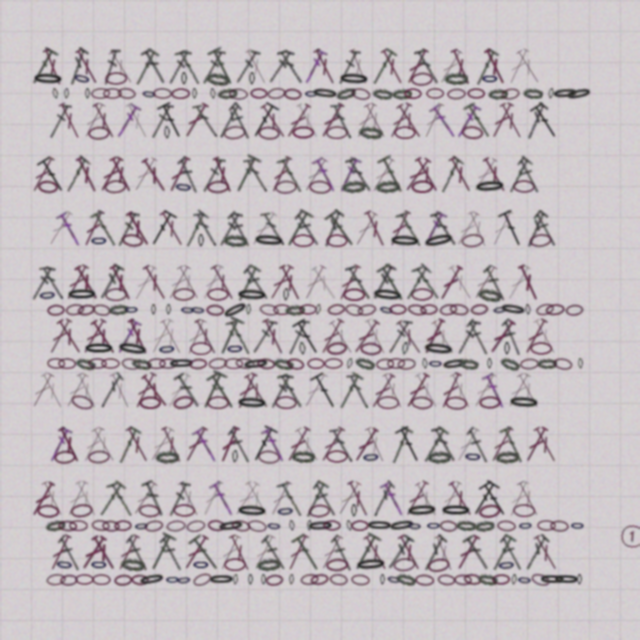chain: (422, 231, 456, 250), (221, 299, 250, 321), (116, 340, 149, 358), (371, 287, 404, 303), (422, 341, 455, 357), (474, 179, 506, 194), (253, 233, 285, 248), (508, 395, 540, 410), (406, 503, 438, 518), (355, 557, 387, 572), (70, 393, 94, 412), (32, 72, 64, 86), (338, 72, 370, 86), (565, 86, 593, 102), (389, 234, 421, 248), (236, 288, 268, 302), (236, 396, 268, 410), (236, 504, 268, 518), (499, 302, 527, 317), (388, 518, 416, 533), (138, 572, 166, 587), (66, 288, 98, 301), (83, 342, 115, 355), (440, 504, 472, 517), (205, 71, 230, 87), (477, 287, 502, 303), (242, 357, 270, 371), (441, 357, 469, 371), (217, 519, 245, 533), (172, 394, 195, 411), (358, 125, 383, 140), (341, 179, 366, 194), (375, 179, 400, 194), (120, 557, 145, 572), (256, 557, 281, 572), (335, 85, 357, 102), (478, 503, 501, 519), (427, 557, 450, 573), (311, 87, 339, 100), (192, 571, 213, 588), (499, 356, 521, 372), (552, 87, 579, 100), (223, 125, 246, 140), (461, 125, 484, 140), (104, 179, 127, 194), (121, 233, 144, 248), (461, 233, 484, 248), (529, 233, 552, 248), (70, 503, 93, 518), (393, 557, 416, 572), (72, 70, 92, 87), (155, 450, 179, 464), (427, 450, 451, 464), (495, 450, 519, 464), (530, 572, 551, 588), (326, 341, 348, 356), (354, 356, 376, 371), (395, 572, 417, 587), (307, 520, 334, 532), (138, 504, 161, 518), (308, 504, 331, 518), (45, 518, 66, 533), (444, 72, 468, 85), (223, 234, 247, 247), (291, 450, 315, 463), (411, 72, 433, 86), (88, 126, 110, 140), (258, 126, 280, 140), (37, 180, 59, 194), (207, 180, 229, 194), (275, 180, 297, 194), (309, 180, 331, 194), (360, 342, 382, 356), (411, 396, 433, 410), (445, 396, 467, 410), (54, 450, 76, 464), (88, 450, 110, 464), (258, 450, 280, 464), (37, 504, 59, 518), (326, 558, 348, 572), (535, 302, 555, 317), (168, 358, 195, 369), (366, 520, 393, 531), (208, 574, 235, 585), (539, 574, 566, 585), (553, 574, 580, 585), (75, 357, 96, 371), (131, 357, 152, 371), (273, 357, 294, 371), (474, 519, 495, 533), (105, 72, 127, 85), (292, 126, 314, 139), (326, 126, 348, 139), (394, 126, 416, 139), (411, 180, 433, 193), (513, 180, 535, 193), (292, 234, 314, 247), (326, 234, 348, 247), (105, 288, 127, 301), (173, 288, 195, 301), (207, 288, 229, 301), (343, 288, 365, 301), (411, 288, 433, 301), (190, 342, 212, 355), (530, 342, 552, 355), (139, 396, 161, 409), (207, 396, 229, 409), (275, 396, 297, 409), (377, 396, 399, 409), (479, 396, 501, 409), (326, 450, 348, 463), (173, 504, 195, 517), (513, 504, 535, 517), (224, 558, 246, 571), (55, 557, 74, 572), (351, 87, 371, 101), (259, 303, 279, 317), (344, 303, 364, 317), (357, 303, 377, 317), (407, 303, 427, 317), (121, 357, 141, 371), (553, 357, 573, 371), (144, 519, 164, 533), (186, 519, 206, 533), (231, 519, 251, 533), (247, 519, 267, 533), (217, 87, 238, 100), (108, 303, 129, 316), (477, 573, 498, 586), (501, 87, 520, 101), (174, 180, 193, 194), (38, 288, 57, 302), (77, 303, 96, 317), (92, 303, 111, 317), (286, 357, 305, 371), (276, 504, 295, 518), (497, 558, 516, 572), (65, 303, 85, 316), (449, 303, 469, 316), (545, 303, 565, 316), (208, 357, 228, 370), (235, 357, 255, 370), (46, 573, 66, 586), (372, 88, 393, 100), (158, 342, 176, 356), (458, 358, 479, 370), (362, 450, 380, 464), (117, 87, 136, 100), (267, 87, 286, 100), (327, 303, 346, 316), (439, 303, 458, 316), (470, 303, 489, 316), (91, 519, 110, 532), (207, 519, 226, 532), (300, 573, 319, 586), (310, 573, 329, 586), (329, 573, 348, 586), (463, 573, 482, 586), (392, 88, 412, 100), (488, 88, 508, 100), (285, 304, 305, 316), (166, 520, 186, 532), (378, 303, 395, 317), (481, 72, 499, 85), (90, 234, 108, 247), (226, 342, 244, 355), (464, 450, 482, 463), (90, 558, 108, 571), (192, 558, 210, 571), (229, 88, 248, 100), (283, 88, 302, 100), (447, 88, 466, 100), (565, 304, 584, 316), (397, 358, 416, 370), (520, 358, 539, 370), (58, 520, 77, 532), (439, 520, 458, 532), (497, 520, 516, 532), (550, 520, 569, 532), (265, 574, 284, 586), (351, 574, 370, 586), (415, 574, 434, 586), (437, 574, 456, 586), (523, 88, 543, 99), (537, 358, 557, 369), (456, 520, 476, 531), (47, 304, 65, 316), (206, 304, 224, 316), (189, 358, 207, 370), (257, 358, 275, 370), (376, 358, 394, 370), (102, 520, 120, 532), (60, 574, 78, 586), (114, 574, 132, 586), (131, 574, 149, 586), (454, 574, 472, 586), (91, 88, 110, 99), (103, 88, 122, 99), (153, 88, 172, 99), (171, 88, 190, 99), (88, 358, 107, 369), (101, 358, 120, 369), (147, 358, 166, 369), (159, 358, 178, 369), (224, 358, 243, 369), (324, 358, 343, 369), (69, 520, 88, 531), (537, 520, 556, 531), (75, 574, 94, 585), (92, 574, 111, 585), (492, 303, 508, 316), (386, 573, 402, 586), (250, 88, 268, 99), (404, 88, 422, 99), (426, 88, 444, 99), (467, 88, 485, 99), (273, 304, 291, 315), (299, 304, 317, 315), (389, 304, 407, 315), (420, 304, 438, 315), (47, 358, 65, 369), (58, 358, 76, 369), (307, 358, 325, 369), (387, 358, 405, 369), (114, 520, 132, 531), (323, 520, 341, 531), (351, 520, 369, 531), (492, 574, 510, 585), (141, 88, 157, 100), (190, 304, 206, 316), (266, 520, 282, 532), (176, 574, 192, 586), (180, 304, 195, 316), (134, 520, 149, 532), (407, 520, 422, 532), (517, 574, 532, 586), (304, 88, 319, 99), (124, 304, 139, 315), (428, 358, 443, 369), (426, 520, 441, 531), (518, 520, 533, 531), (570, 520, 585, 531), (165, 574, 180, 585), (401, 342, 409, 355), (299, 342, 306, 355), (181, 72, 187, 85), (249, 72, 255, 85), (164, 126, 170, 139), (198, 234, 204, 247), (283, 288, 289, 301), (504, 342, 510, 355), (232, 450, 238, 463), (351, 504, 357, 517), (52, 88, 59, 99), (346, 358, 353, 369), (346, 520, 353, 531), (210, 88, 216, 99), (548, 88, 554, 99), (315, 304, 321, 315), (525, 304, 531, 315), (422, 358, 428, 369), (289, 520, 295, 531), (511, 574, 517, 585), (64, 88, 69, 99), (85, 88, 90, 99), (192, 88, 197, 99), (151, 304, 156, 315), (166, 304, 171, 315), (246, 304, 251, 315), (487, 358, 492, 369), (578, 358, 583, 369), (307, 520, 312, 531), (233, 574, 238, 585), (248, 574, 253, 585), (261, 574, 266, 585), (289, 574, 294, 585), (380, 574, 385, 585), (577, 574, 582, 585)
double: (324, 209, 359, 249), (188, 533, 223, 573), (529, 101, 562, 141), (36, 155, 69, 195), (376, 263, 409, 303), (291, 317, 324, 357), (206, 371, 239, 411), (468, 479, 501, 519), (478, 479, 511, 519), (291, 533, 324, 573), (350, 532, 382, 573), (94, 479, 127, 518), (27, 47, 59, 87), (248, 101, 280, 141), (146, 209, 178, 249), (282, 209, 314, 249), (309, 371, 341, 411), (207, 46, 238, 87), (156, 100, 187, 141), (231, 154, 262, 195), (377, 154, 408, 195), (248, 424, 279, 465), (394, 424, 425, 465), (146, 532, 177, 573), (401, 263, 433, 302), (411, 263, 443, 302), (418, 425, 450, 464), (497, 208, 527, 249), (215, 316, 245, 357), (198, 370, 228, 411), (401, 156, 433, 194), (350, 318, 382, 356), (486, 318, 518, 356), (367, 47, 398, 86), (513, 47, 544, 86), (462, 101, 493, 140), (61, 155, 92, 194), (54, 317, 85, 356), (173, 371, 204, 410), (146, 425, 177, 464), (292, 425, 323, 464), (129, 479, 160, 518), (180, 533, 211, 572), (130, 47, 160, 87), (174, 47, 204, 87), (470, 47, 500, 87), (276, 155, 306, 195), (504, 155, 534, 195), (89, 209, 119, 249), (395, 209, 425, 249), (232, 263, 262, 303), (106, 479, 136, 519), (276, 479, 306, 519), (300, 479, 330, 519), (139, 372, 171, 409), (258, 102, 289, 140), (394, 102, 425, 140), (428, 102, 459, 140), (139, 156, 170, 194), (248, 210, 279, 248), (309, 264, 340, 302), (88, 318, 119, 356), (326, 318, 357, 356), (394, 318, 425, 356), (231, 480, 262, 518), (78, 534, 109, 572), (384, 534, 415, 572), (462, 534, 493, 572), (140, 47, 170, 86), (181, 101, 211, 140), (317, 101, 347, 140), (96, 155, 126, 194), (130, 155, 160, 194), (412, 155, 442, 194), (480, 155, 510, 194), (45, 209, 75, 248), (123, 209, 153, 248), (157, 209, 187, 248), (72, 263, 102, 302), (140, 263, 170, 302), (208, 263, 238, 302), (266, 263, 296, 302), (446, 263, 476, 302), (470, 263, 500, 302), (79, 317, 109, 356), (300, 371, 330, 410), (334, 371, 364, 410), (402, 371, 432, 410), (412, 371, 442, 410), (89, 425, 119, 464), (283, 425, 313, 464), (317, 425, 347, 464), (334, 479, 364, 518), (446, 479, 476, 518), (89, 533, 119, 572), (361, 533, 391, 572), (487, 533, 517, 572), (531, 533, 561, 572), (436, 155, 465, 195), (181, 209, 210, 249), (225, 317, 254, 357), (113, 425, 142, 465), (106, 48, 136, 86), (283, 102, 313, 140), (300, 156, 330, 194), (470, 156, 500, 194), (242, 372, 272, 410), (351, 426, 381, 464), (242, 47, 271, 86), (378, 47, 407, 86), (123, 101, 152, 140), (361, 101, 390, 140), (497, 101, 526, 140), (28, 155, 57, 194), (446, 155, 475, 194), (62, 263, 91, 302), (96, 263, 125, 302), (164, 263, 193, 302), (174, 263, 203, 302), (300, 263, 329, 302), (147, 317, 176, 356), (157, 317, 186, 356), (317, 317, 346, 356), (521, 317, 550, 356), (531, 317, 560, 356), (28, 371, 57, 410), (38, 371, 67, 410), (62, 371, 91, 410), (470, 371, 499, 410), (504, 371, 533, 410), (514, 371, 543, 410), (123, 425, 152, 464), (487, 425, 516, 464), (531, 425, 560, 464), (208, 479, 237, 518), (402, 479, 431, 518), (514, 479, 543, 518), (317, 533, 346, 572), (395, 533, 424, 572), (453, 533, 482, 572), (386, 425, 414, 465), (498, 425, 526, 465), (436, 48, 465, 86), (113, 102, 142, 140), (453, 102, 482, 140), (368, 156, 397, 194), (55, 210, 84, 248), (351, 210, 380, 248), (453, 210, 482, 248), (130, 264, 159, 302), (436, 264, 465, 302), (504, 264, 533, 302), (429, 318, 458, 356), (164, 372, 193, 410), (368, 372, 397, 410), (191, 426, 220, 464), (453, 426, 482, 464), (28, 480, 57, 518), (412, 480, 441, 518), (419, 534, 448, 572), (73, 47, 101, 86), (311, 47, 339, 86), (403, 47, 431, 86), (481, 47, 509, 86), (56, 101, 84, 140), (80, 101, 108, 140), (90, 101, 118, 140), (294, 101, 322, 140), (352, 101, 380, 140), (386, 101, 414, 140), (488, 101, 516, 140), (73, 155, 101, 194), (107, 155, 135, 194), (165, 155, 193, 194), (311, 155, 339, 194), (420, 209, 448, 248), (488, 209, 516, 248), (107, 263, 135, 302), (335, 263, 363, 302), (369, 263, 397, 302), (46, 317, 74, 356), (114, 317, 142, 356), (192, 317, 220, 356), (362, 317, 390, 356), (420, 317, 448, 356), (131, 371, 159, 410), (379, 371, 407, 410), (447, 371, 475, 410), (182, 425, 210, 464), (260, 425, 288, 464), (522, 425, 550, 464), (63, 479, 91, 518), (175, 479, 203, 518), (243, 479, 271, 518), (379, 479, 407, 518), (46, 533, 74, 572), (114, 533, 142, 572), (216, 533, 244, 572), (226, 533, 254, 572), (250, 533, 278, 572), (233, 371, 260, 411), (505, 479, 532, 519), (266, 48, 295, 85), (293, 210, 322, 247), (242, 264, 271, 301), (521, 534, 550, 571), (345, 156, 373, 194), (430, 210, 458, 248), (301, 47, 328, 86), (505, 47, 532, 86), (420, 101, 447, 140), (80, 209, 107, 248), (362, 209, 389, 248), (386, 209, 413, 248), (199, 263, 226, 302), (277, 263, 304, 302), (515, 263, 542, 302), (260, 317, 287, 356), (107, 371, 134, 410), (437, 371, 464, 410), (481, 371, 508, 410), (46, 425, 73, 464), (56, 425, 83, 464), (80, 425, 107, 464), (362, 425, 389, 464), (39, 479, 66, 518), (73, 479, 100, 518), (141, 479, 168, 518), (199, 479, 226, 518), (267, 479, 294, 518), (345, 479, 372, 518), (437, 479, 464, 518), (284, 533, 311, 572), (40, 47, 66, 87), (448, 47, 474, 87), (465, 209, 491, 249), (183, 317, 209, 357), (431, 533, 457, 573), (233, 48, 261, 85), (192, 102, 220, 139), (250, 318, 278, 355), (97, 372, 125, 409), (311, 480, 339, 517), (260, 534, 288, 571), (277, 48, 304, 86), (522, 102, 549, 140), (243, 156, 270, 194), (226, 210, 253, 248), (260, 210, 287, 248), (522, 210, 549, 248), (29, 264, 56, 302), (345, 264, 372, 302), (277, 372, 304, 410), (226, 426, 253, 464), (56, 534, 83, 572), (124, 534, 151, 572), (158, 534, 185, 572), (210, 155, 236, 194), (268, 155, 294, 194), (336, 155, 362, 194), (319, 209, 345, 248), (125, 317, 151, 356), (74, 371, 100, 410), (159, 425, 185, 464), (431, 425, 457, 464), (216, 102, 243, 139), (532, 210, 559, 247), (39, 264, 66, 301), (386, 318, 413, 355), (498, 534, 525, 571), (166, 48, 192, 86), (200, 48, 226, 86), (414, 48, 440, 86), (227, 102, 253, 140), (200, 156, 226, 194), (516, 156, 542, 194), (193, 210, 219, 248), (217, 210, 243, 248), (482, 264, 508, 302), (455, 318, 481, 356), (465, 318, 491, 356), (268, 372, 294, 410), (329, 426, 355, 464), (465, 426, 491, 464), (370, 480, 396, 518), (329, 534, 355, 572), (346, 47, 371, 86), (217, 425, 242, 464), (336, 48, 361, 86), (47, 102, 72, 140), (149, 102, 174, 140), (176, 156, 201, 194), (115, 210, 140, 248), (346, 372, 371, 410), (166, 480, 191, 518), (65, 47, 89, 86), (330, 102, 354, 140), (286, 318, 310, 356), (500, 318, 524, 356), (101, 47, 121, 86)
noise: (618, 522, 640, 551)
